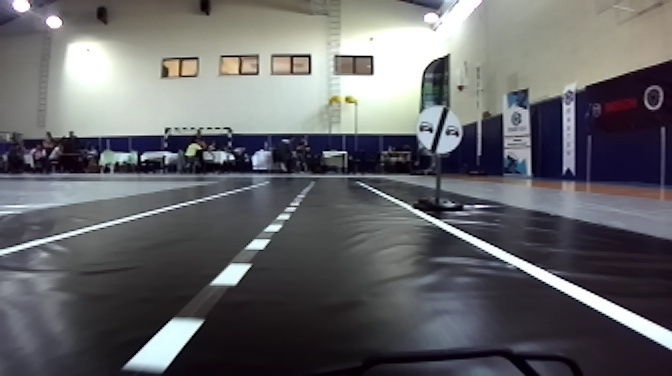sollama_serbest: (417, 106, 462, 152)
